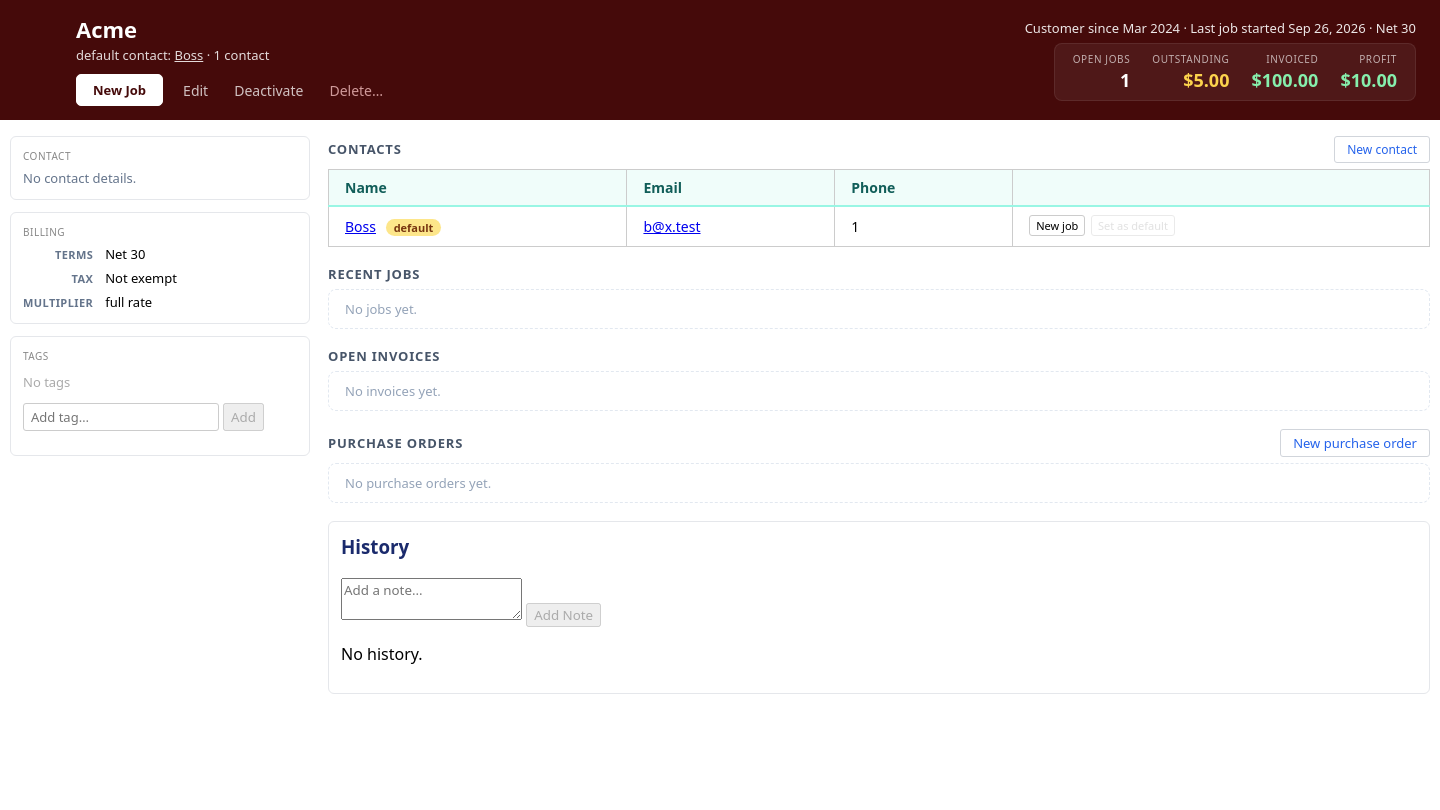
Scenario: BusinessDetailPage edit modal › edit save reloads the business and stays
Click the button "Edit" at (196, 90), box [177,80,214,100]
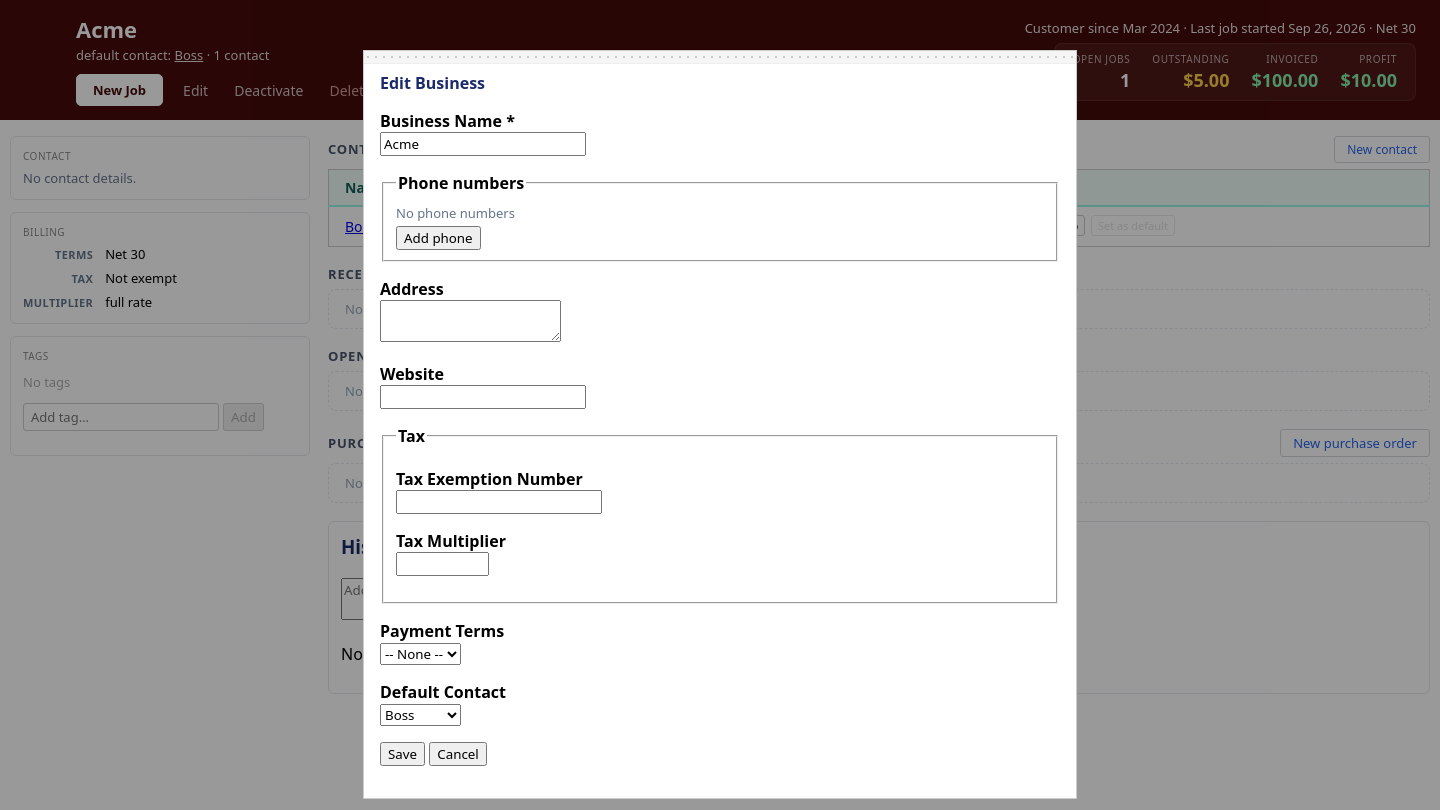
Expected: the field labelled "Business Name *" is shown, [380,132,586,156]
Submit the form named "Save", box [380,110,1060,766]
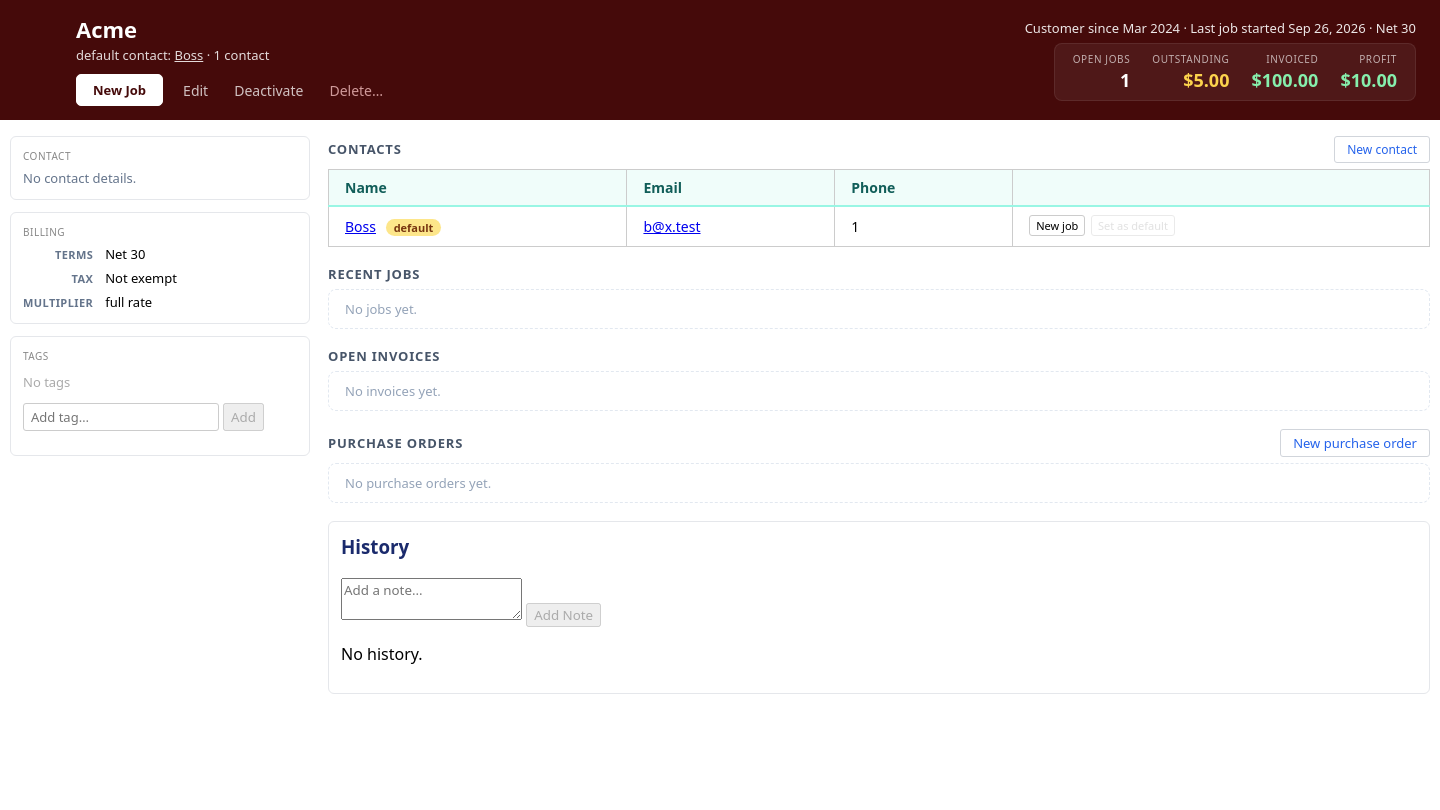
Expected: the dialog is gone
